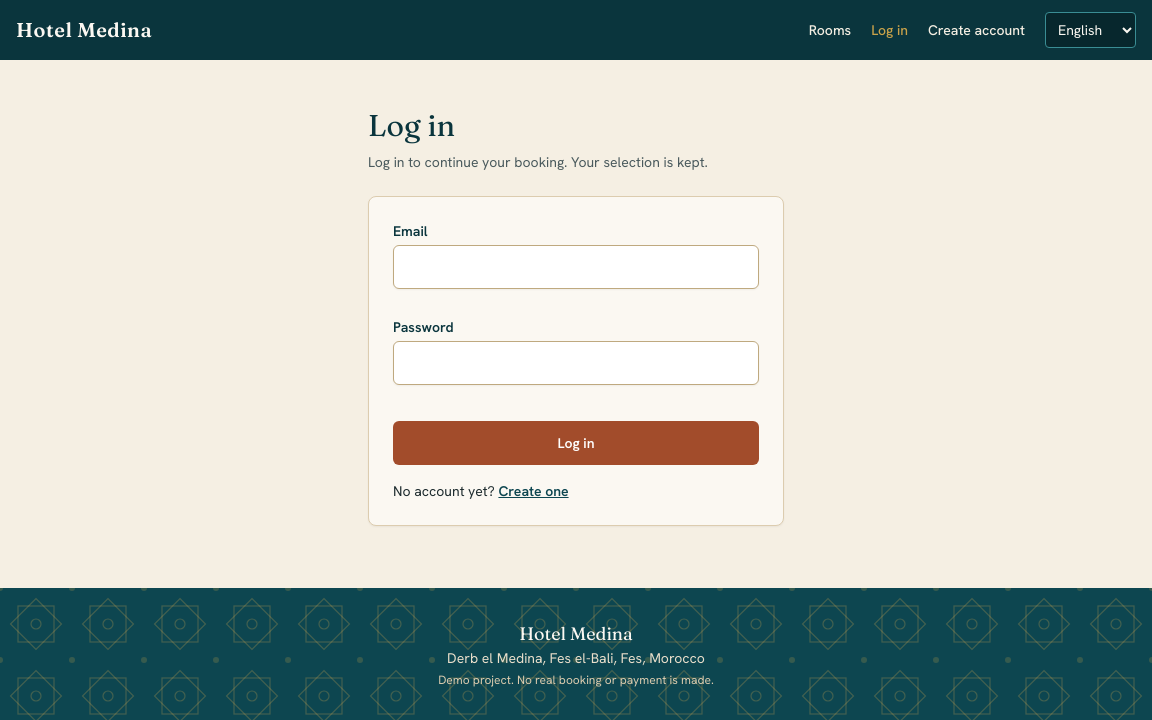
Test: auth guards › redirects /book to /login when logged out and returns to the selection after login
expect the heading "Log in" is shown: met, box 368,107 -> 455,144
expect the text "Log in to continue your booking. Your selection is kept." is shown: met, box 368,153 -> 708,171
Type "guest@demo.test" into the field labelled "Email" at (576, 267), box 393,245 -> 759,289
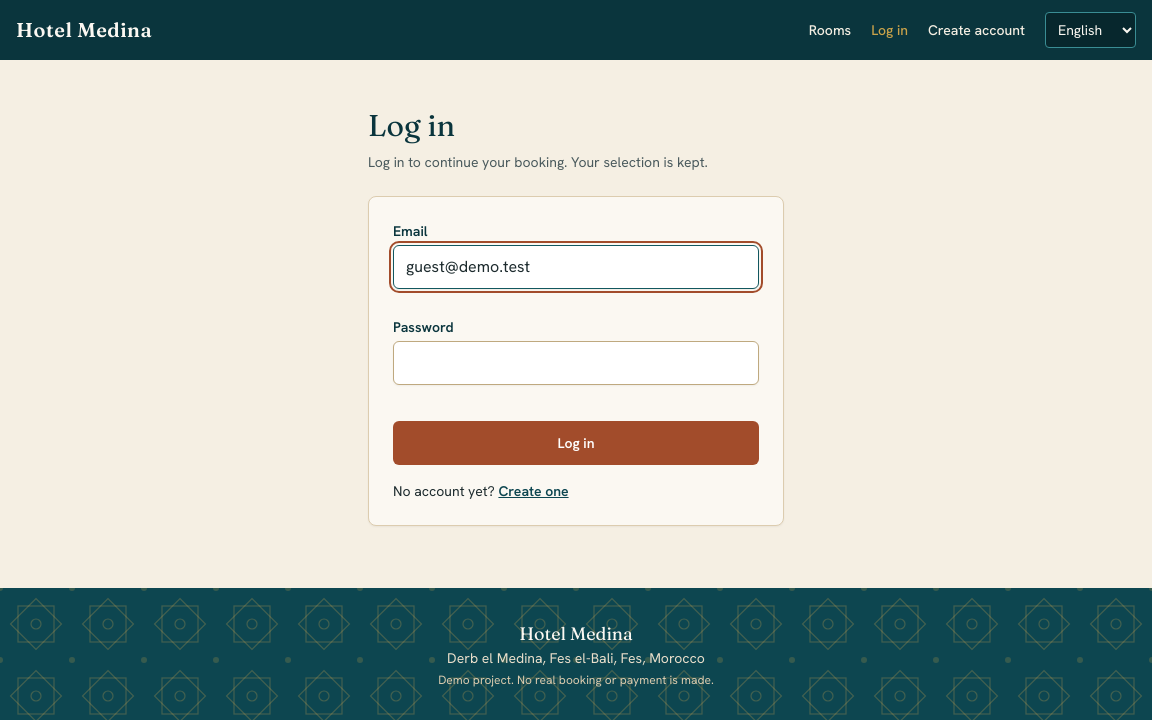
Type "demo1234" into the password field labelled "Password" at (576, 363), box 393,341 -> 759,385
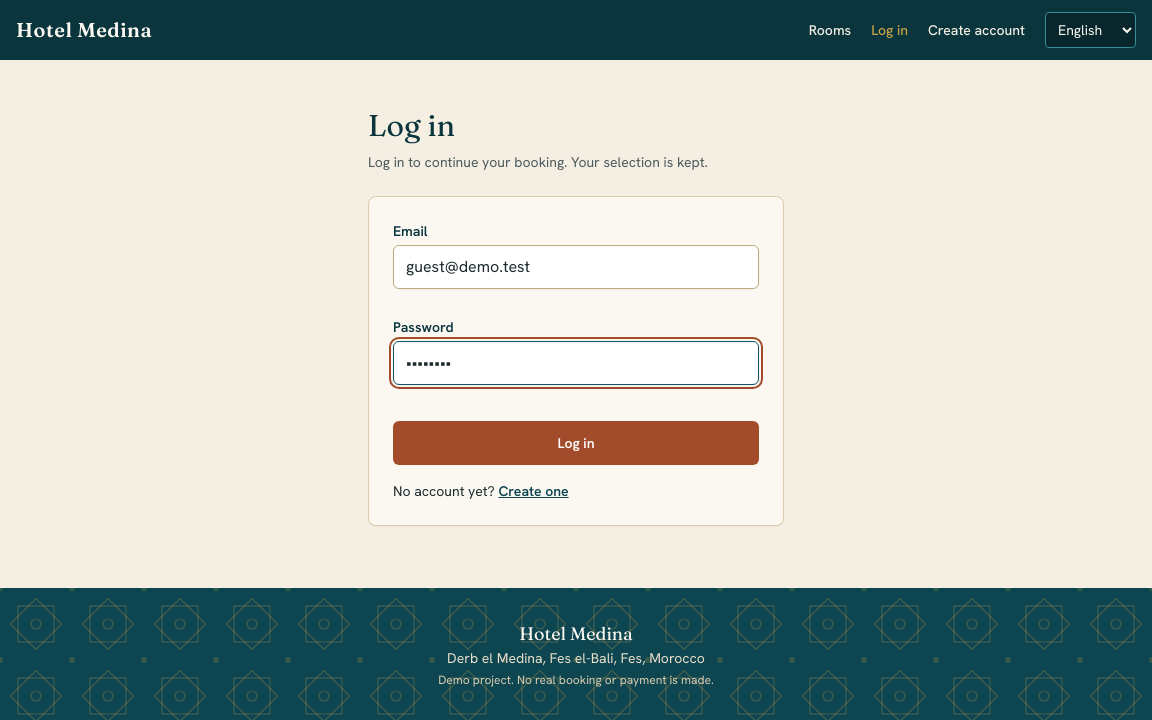
Click the button "Log in" at (576, 443), box 393,421 -> 759,465
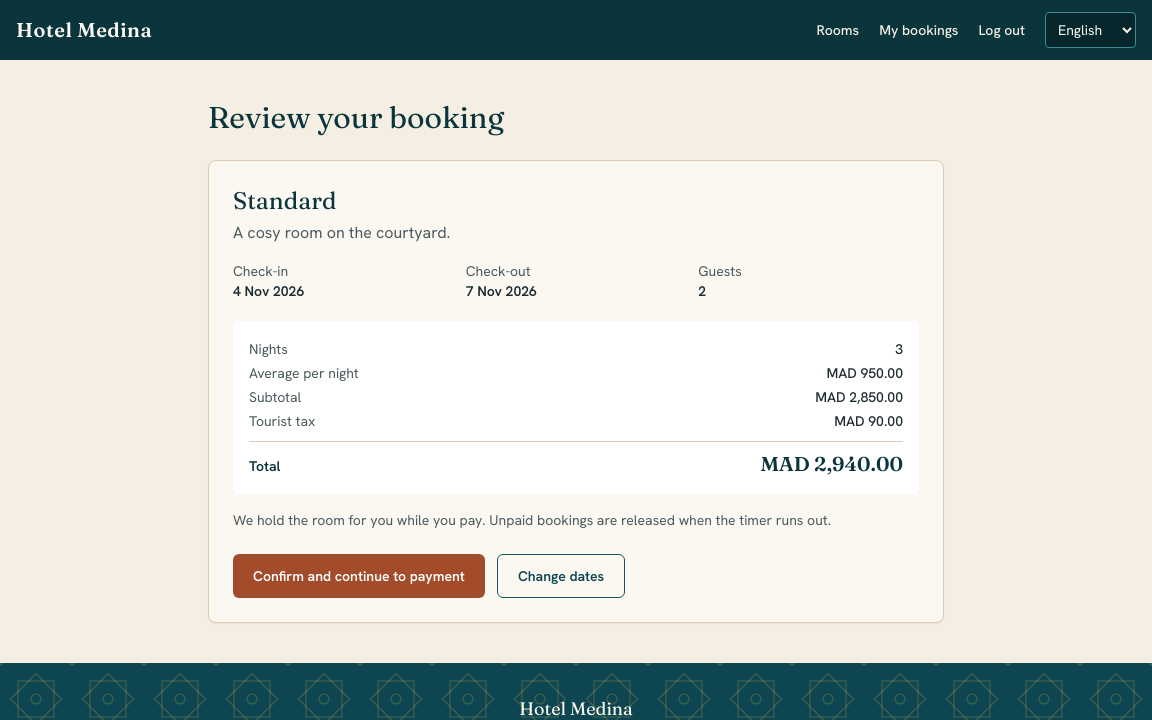
expect the heading "Review your booking" is shown: met, box 208,99 -> 504,136
expect the heading "Standard" is shown: met, box 233,186 -> 337,215
